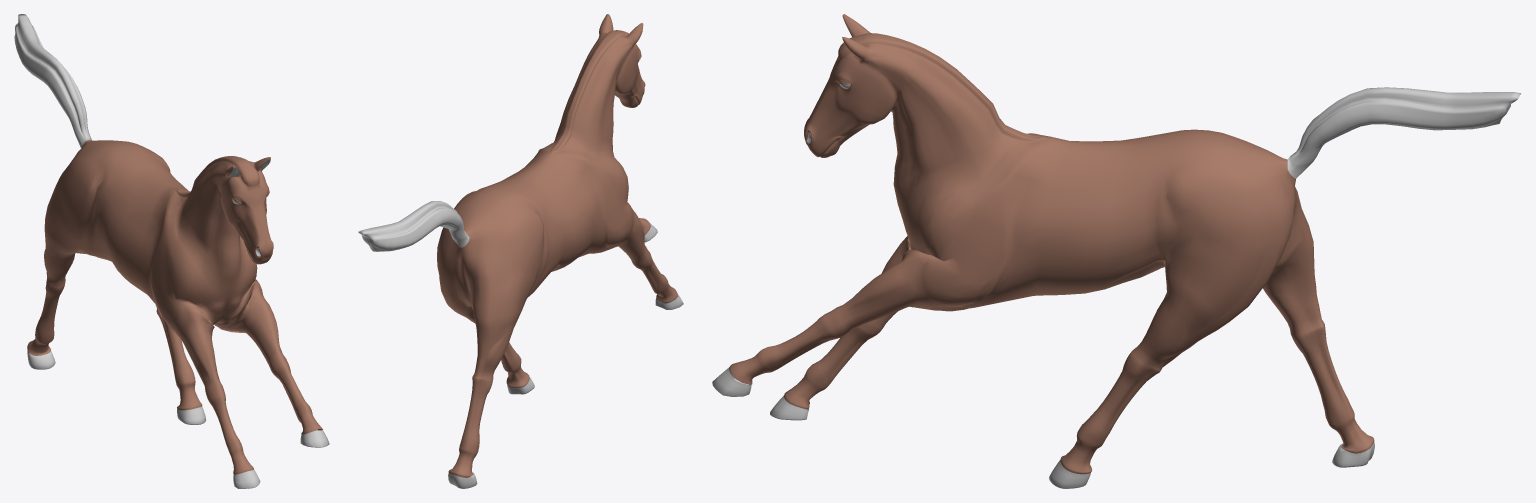
Rendered from horse_obj_10.obj.
3 renders of one model, left to right at view 1: azimuth 30°, elevation 25°; view 2: azimuth 150°, elevation 25°; view 3: azimuth 270°, elevation 25°, orthographic. The views are drawn at different scales.
Visible parts, largest first — view 1: Figure_1; view 2: Figure_1; view 3: Figure_1.
Part boxes in pixels (x1=…): Figure_1: x1=14, y1=14, x2=329, y2=488; Figure_1: x1=358, y1=14, x2=683, y2=488; Figure_1: x1=712, y1=14, x2=1520, y2=488.
Size of the model in its own units: 0.2421 by 0.829 by 1.34.
